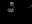person: (25, 3, 31, 9), (7, 9, 14, 14), (9, 1, 13, 6)
